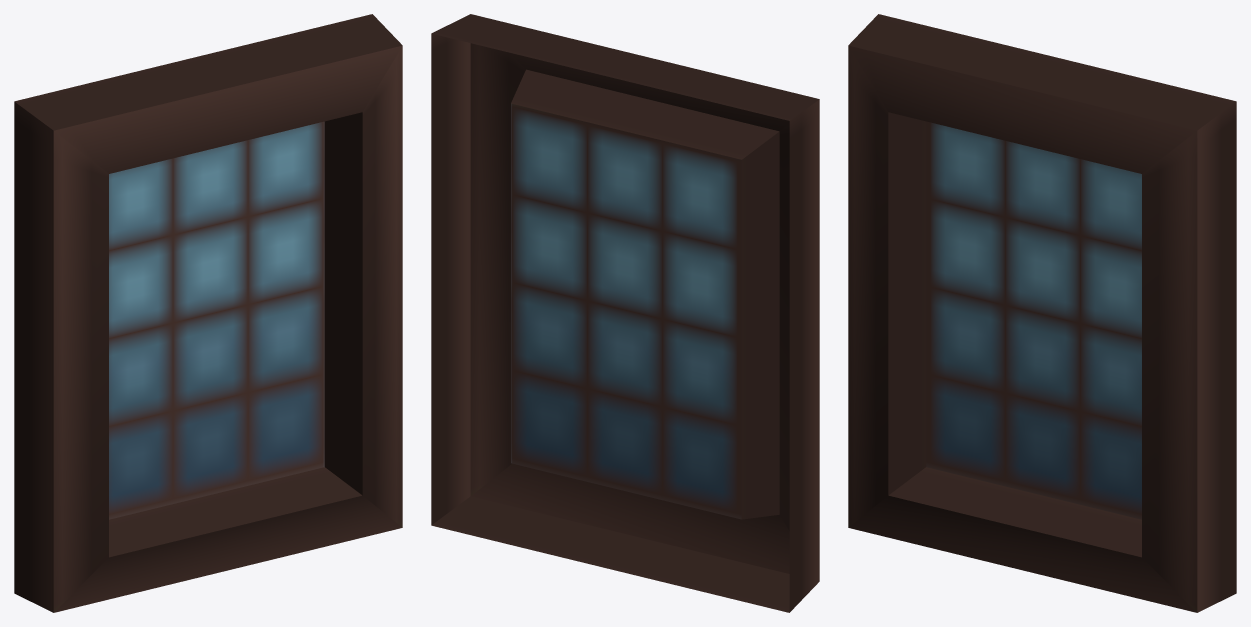
The model's file is window_v4_001.fbx.
3 views of the same model, side by side, from view 1: azimuth 30°, elevation 25°; view 2: azimuth 150°, elevation 25°; view 3: azimuth 330°, elevation 25° (orthographic).
Visible parts, largest first — view 1: window_v4_001; view 2: window_v4_001; view 3: window_v4_001.
Part boxes in pixels (x1,y1,x2,y2): window_v4_001: (14,14,402,612); window_v4_001: (431,14,819,612); window_v4_001: (848,14,1236,612).
Size of the model in its own units: 109 by 143 by 22.31.
